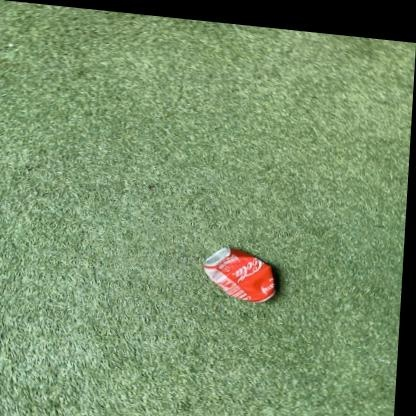trash: (203, 247, 275, 301)
